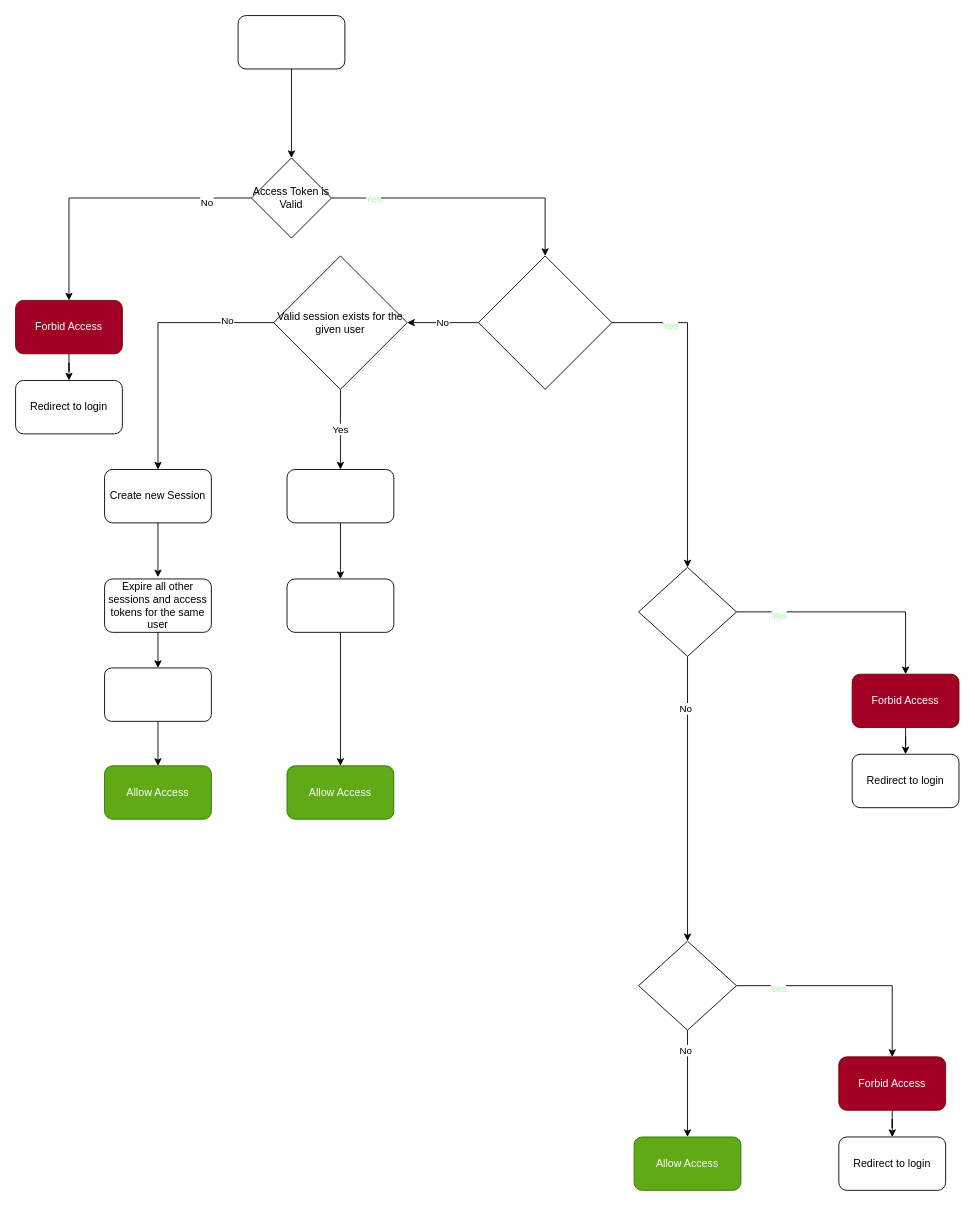
The diagram is 975 pixels wide and 1206 high, and some of its shapes have lost their labels. The shapes that lost their labels are listed below. From the top down, each one's centre as x and y in pixels, then its label:
point 291,42: Send Access Token
point 544,322: Session exists for the given Access Token
point 340,496: Add Access Token to the session
point 340,605: Mark other Access Tokens as invalid
point 687,611: Session is expired
point 157,694: Store Access Token
point 687,985: Acces token is expired
